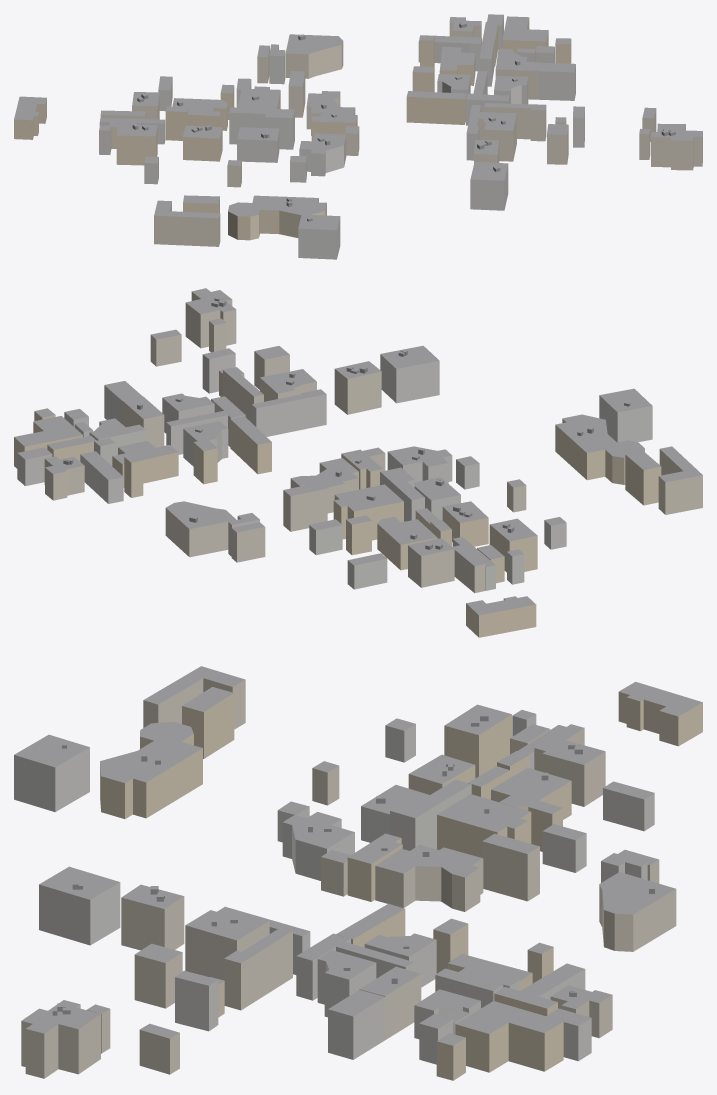
Rendered from building_-4_-7.glb.
The picture shows the model from 3 angles, top to bottom: view 1: azimuth 30°, elevation 25°; view 2: azimuth 150°, elevation 25°; view 3: azimuth 270°, elevation 25°; orthographic projection. The views are drawn at different scales.
Visible parts, largest first — view 1: roof, concrete_light, concrete_warm, sandstone; view 2: roof, concrete_warm, concrete_light, sandstone; view 3: roof, concrete_warm, concrete_light, sandstone.
Boxes of the visible parts, bbox=[...] form: roof: bbox=[14, 14, 702, 230]; concrete_light: bbox=[99, 15, 584, 259]; concrete_warm: bbox=[100, 19, 702, 246]; sandstone: bbox=[14, 17, 571, 240]; roof: bbox=[14, 288, 702, 615]; concrete_warm: bbox=[44, 292, 702, 593]; concrete_light: bbox=[17, 353, 652, 590]; sandstone: bbox=[14, 371, 661, 637]; roof: bbox=[14, 666, 702, 1045]; concrete_warm: bbox=[21, 678, 676, 1078]; concrete_light: bbox=[14, 714, 654, 1064]; sandstone: bbox=[100, 692, 702, 1080].
Size of the model in its own units: 258 by 17.2 by 202.
